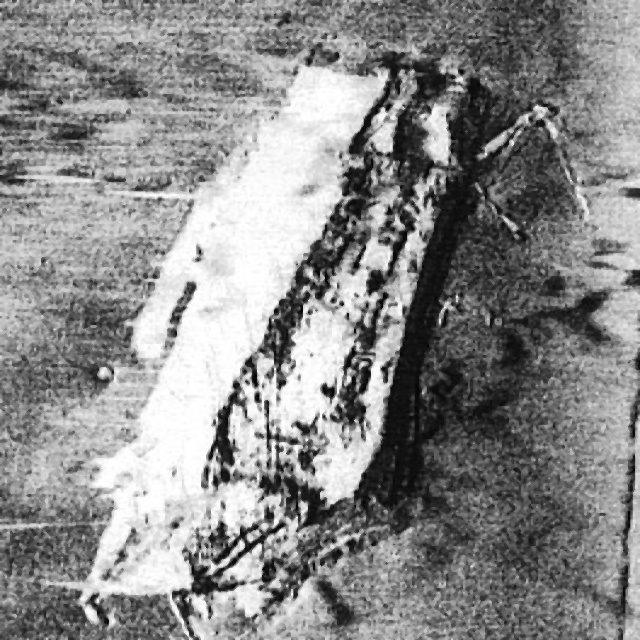Ship: (72, 27, 540, 613)
